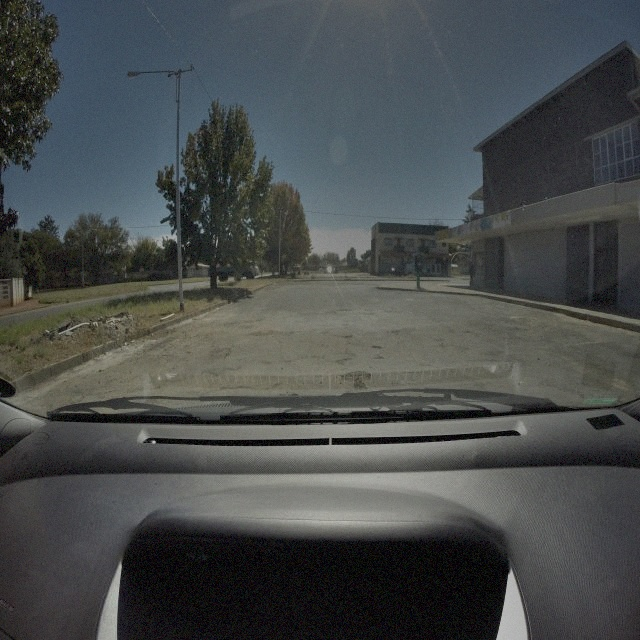pothole: (340, 371, 372, 391), (212, 344, 231, 360), (337, 355, 352, 367), (252, 328, 274, 336), (340, 331, 354, 341), (337, 306, 352, 314), (372, 342, 382, 351), (390, 328, 400, 334)
